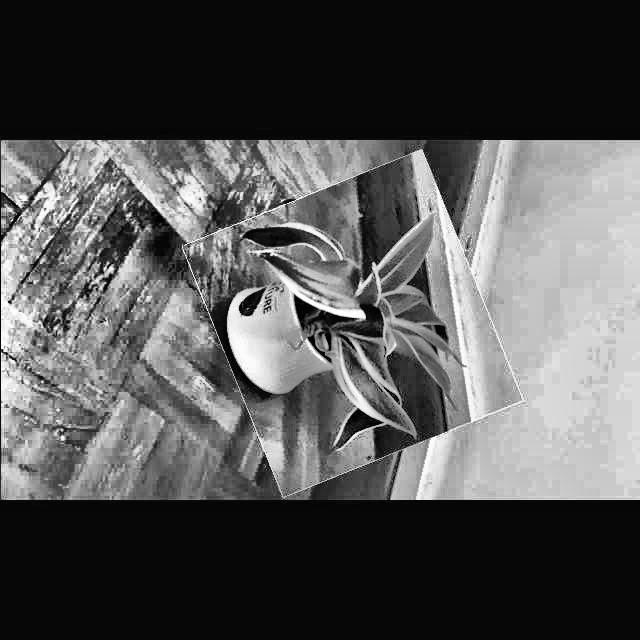plants: (202, 168, 502, 478)
